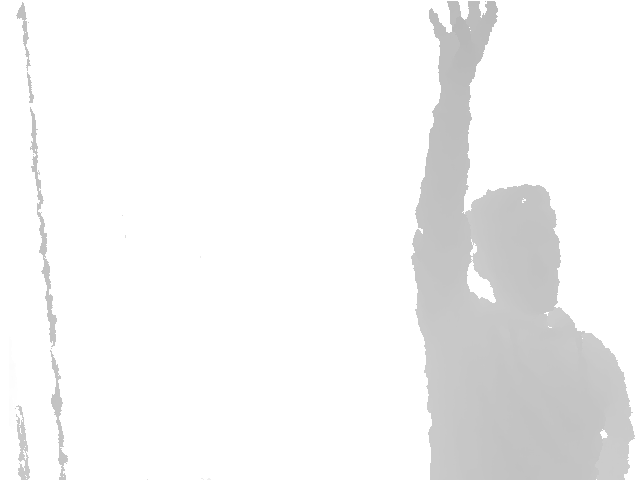hand: (429, 1, 499, 94)
head: (466, 183, 561, 310)
person: (412, 1, 636, 480)
